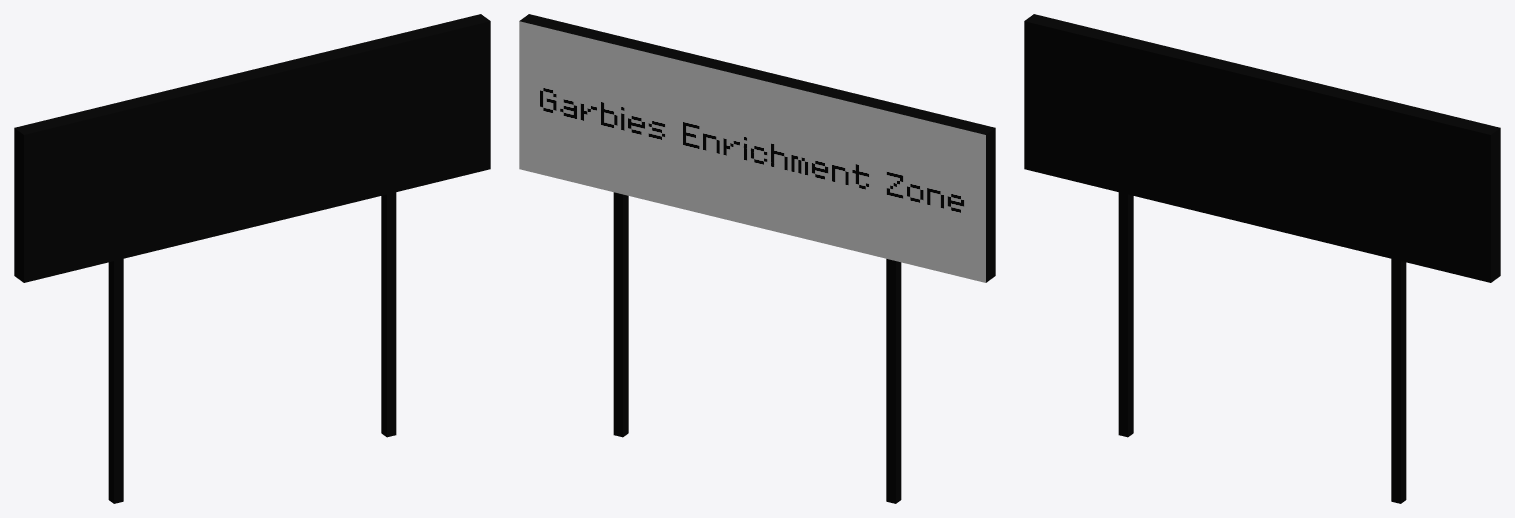
File: EnrichmentPlang.glb
3 views of the same model, side by side, from view 1: azimuth 30°, elevation 25°; view 2: azimuth 150°, elevation 25°; view 3: azimuth 330°, elevation 25° (orthographic).
Visible parts, largest first — view 1: PlangEnrichment; view 2: PlangEnrichment; view 3: PlangEnrichment.
Boxes of the visible parts, <box> form: PlangEnrichment: <box>14,14,490,503</box>; PlangEnrichment: <box>519,14,995,503</box>; PlangEnrichment: <box>1024,14,1500,503</box>.
Bounding box in the file's own units: 1.98 × 1.59 × 0.072.
Materials: 2 (1 with a texture image).
